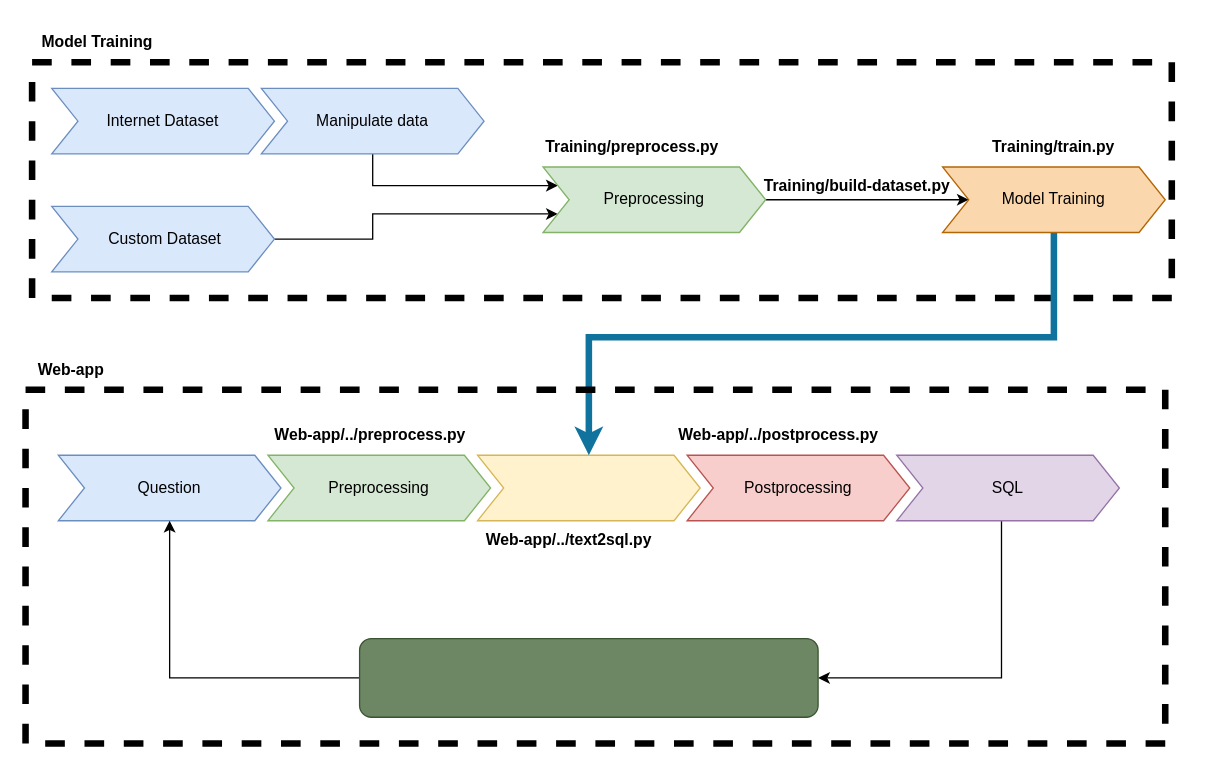
The diagram is 1208 pixels wide and 769 high, and some of its shapes have lost their labels. The shapes that lost their labels are listed below. From the top down, each one's box as (x1, y1, x2, y2) in pixels, then its label:
(476, 454, 700, 521): Text2SQL
(358, 637, 818, 717): UI
